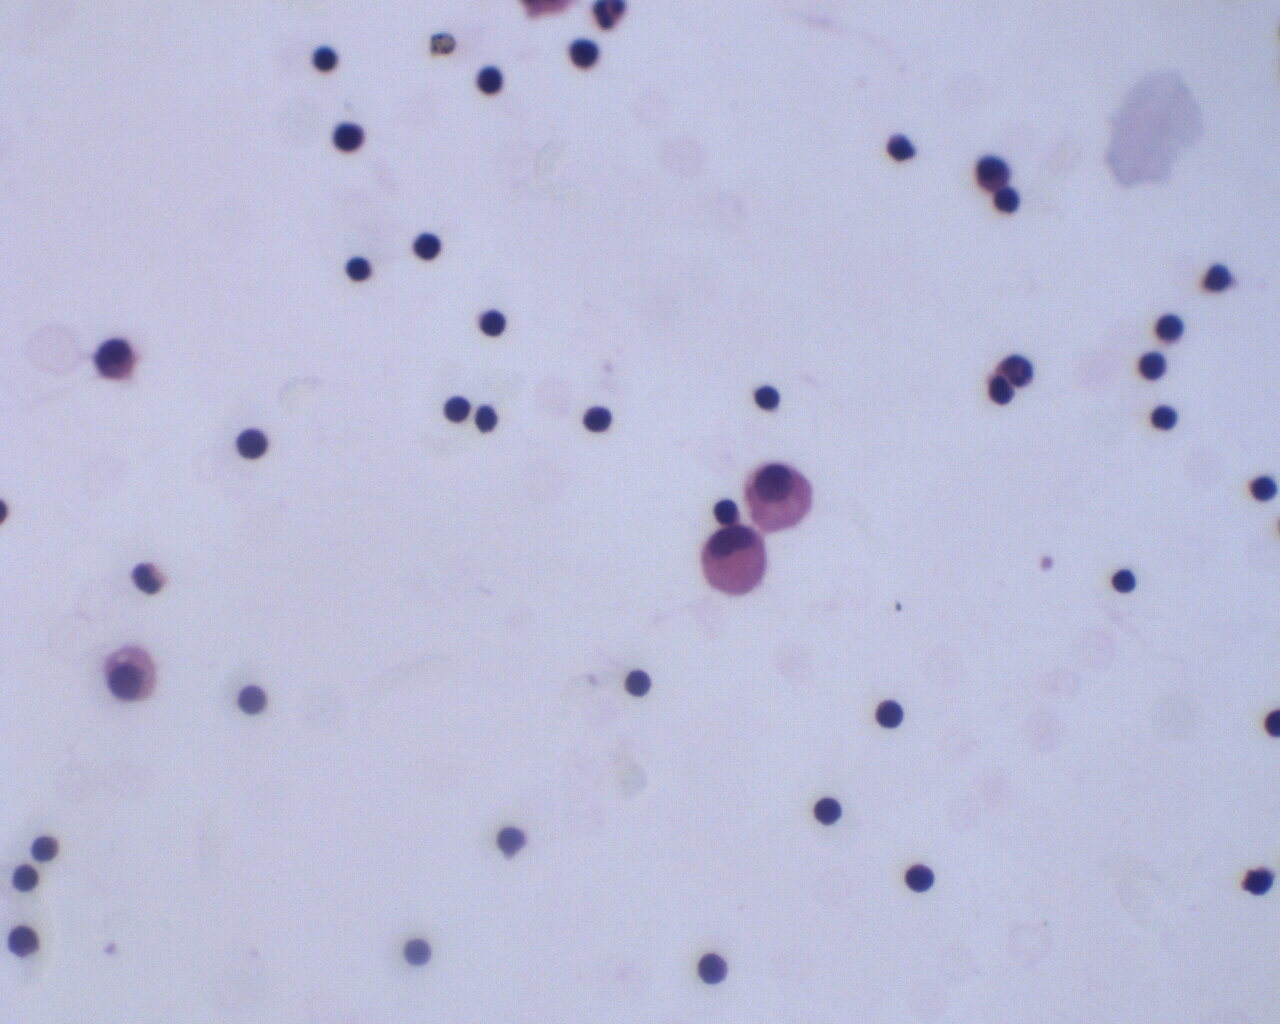lymph: (690, 942, 740, 994), (231, 424, 274, 469), (870, 691, 907, 736), (903, 860, 939, 897), (408, 228, 444, 262), (580, 403, 615, 436), (473, 64, 506, 99), (810, 795, 843, 828), (622, 666, 654, 698), (478, 308, 511, 340), (441, 395, 474, 426), (1149, 402, 1180, 434), (753, 383, 784, 413), (1110, 566, 1139, 595)
meso: (742, 456, 816, 533), (698, 526, 766, 599), (99, 637, 162, 708)
neutro: (998, 349, 1042, 397), (590, 1, 631, 32)
